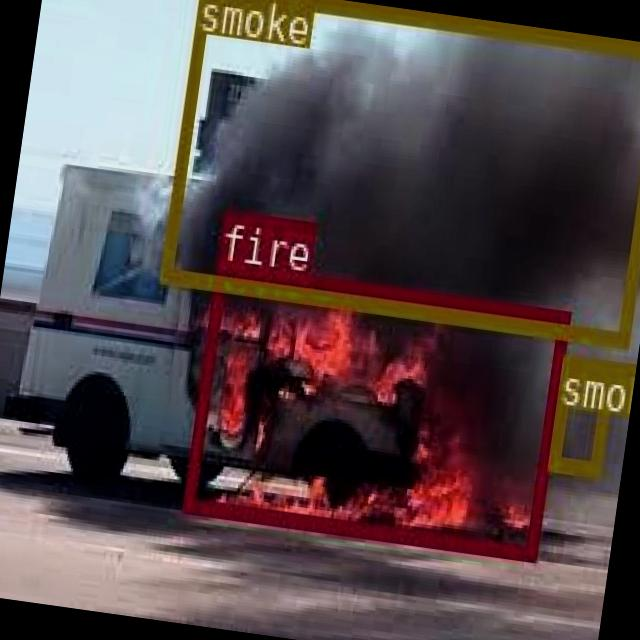fire: (180, 260, 570, 560)
smoke: (159, 0, 640, 347), (547, 354, 614, 474)
